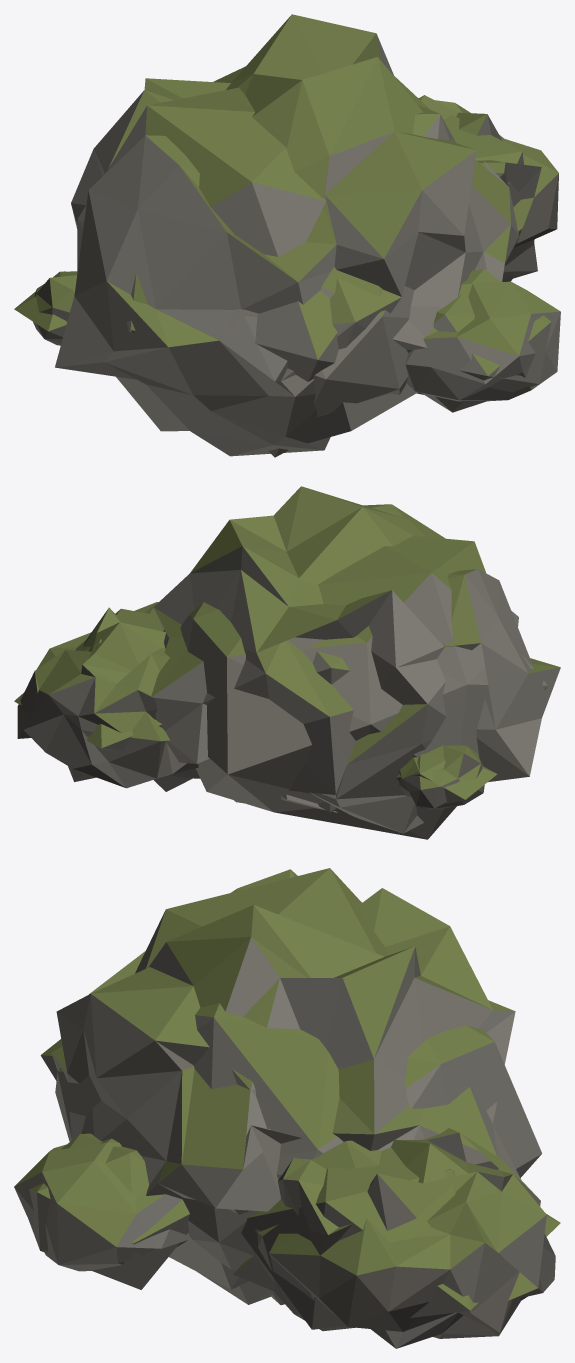
File: neutral_rock_large.glb
3 views of the same model, one above another, from view 1: azimuth 30°, elevation 25°; view 2: azimuth 150°, elevation 25°; view 3: azimuth 270°, elevation 25° (orthographic). The views are drawn at different scales.
Parts seen in each view (by area): view 1: rock (×3); view 2: rock (×3); view 3: rock (×2).
Boxes of the visible parts, x1,y1,x2,y2 form: rock (×3): (14,14,560,457); rock (×3): (14,486,560,839); rock (×2): (14,868,560,1348).
Size of the model in its own units: 5.04 by 3.17 by 4.21.
